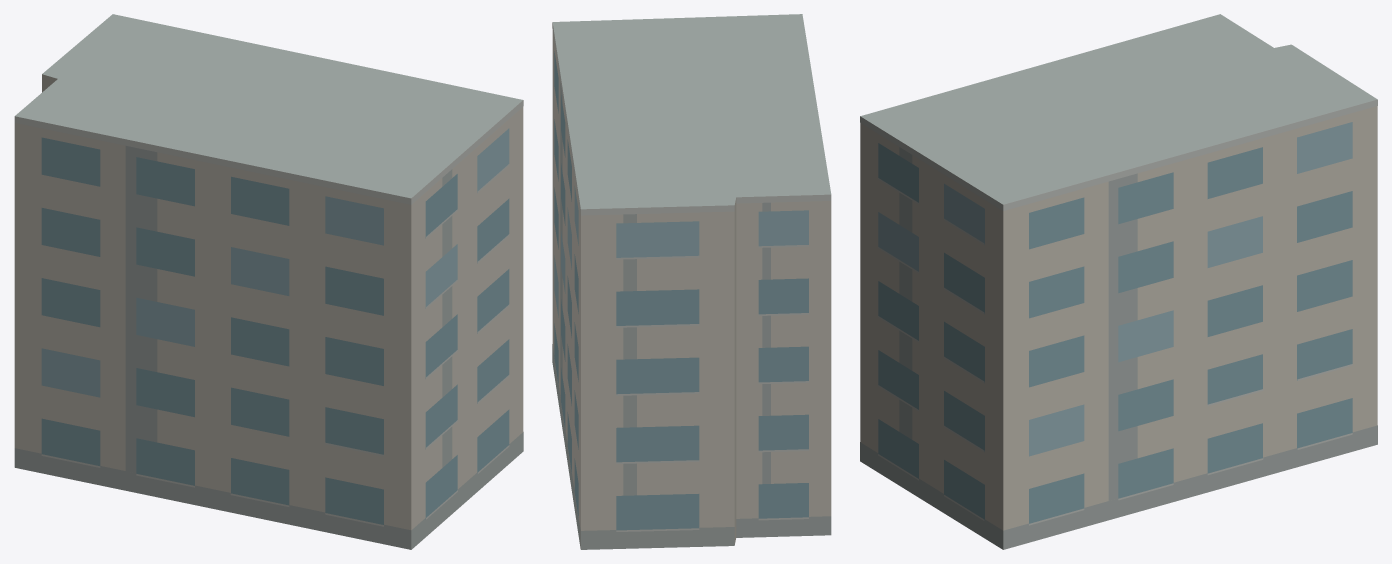
The model's file is survey-upis-32881730.glb.
3 views of the same model, side by side, from view 1: azimuth 30°, elevation 25°; view 2: azimuth 150°, elevation 25°; view 3: azimuth 270°, elevation 25° (orthographic). The views are drawn at different scales.
Parts seen in each view (by area): view 1: survey-upis-32881730.tmp; view 2: survey-upis-32881730.tmp; view 3: survey-upis-32881730.tmp.
Boxes of the visible parts, <box> form: survey-upis-32881730.tmp: <box>14,14,523,549</box>; survey-upis-32881730.tmp: <box>552,14,831,549</box>; survey-upis-32881730.tmp: <box>860,14,1377,549</box>.
Bounding box in the file's own units: 15.66 × 13.2 × 17.95.
